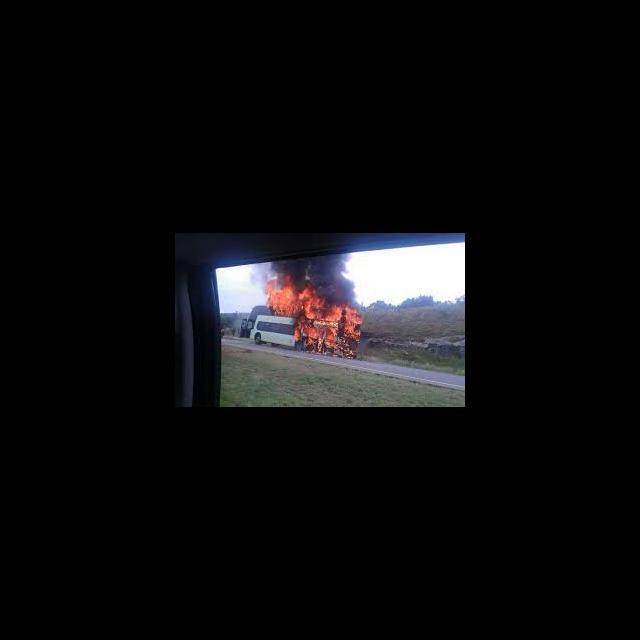Fire: (267, 282, 359, 358)
Smoke: (258, 254, 358, 280)
